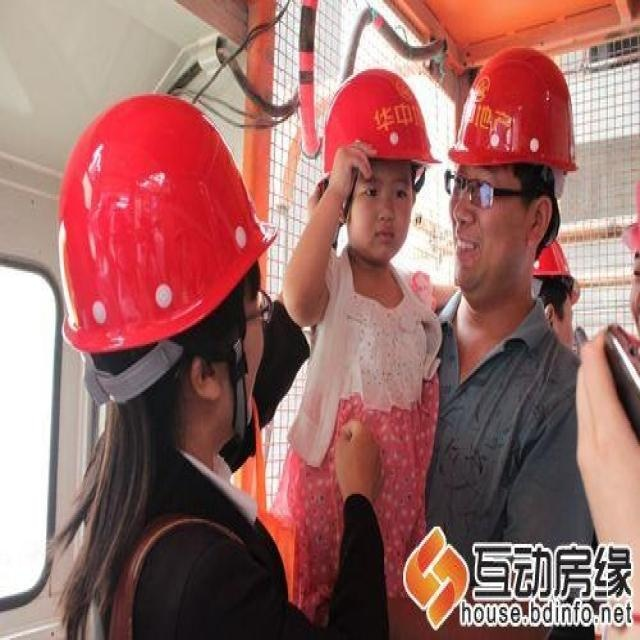Con_Casco: (445, 54, 574, 295), (321, 69, 425, 250)
